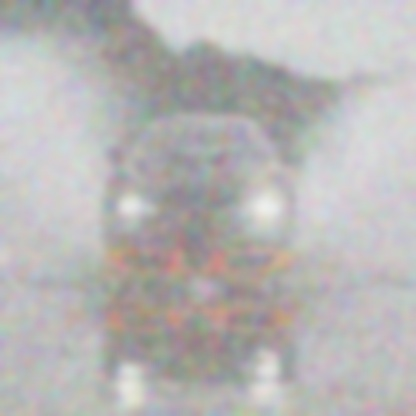Vehicle: (101, 110, 299, 295)
